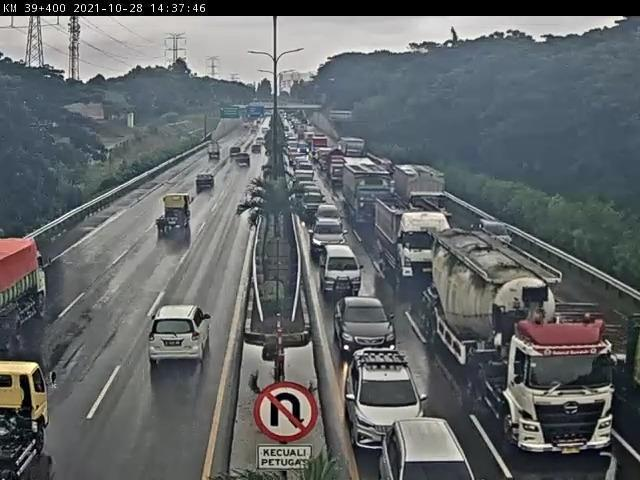car: (345, 342, 438, 452), (383, 409, 473, 480), (137, 299, 222, 371), (332, 292, 398, 358), (319, 244, 364, 299), (302, 220, 354, 262), (313, 199, 353, 239), (196, 168, 215, 199)
truck: (430, 232, 640, 475), (1, 339, 69, 480), (376, 202, 460, 292), (1, 231, 63, 329), (341, 154, 398, 234), (154, 186, 201, 242), (397, 168, 449, 215)
